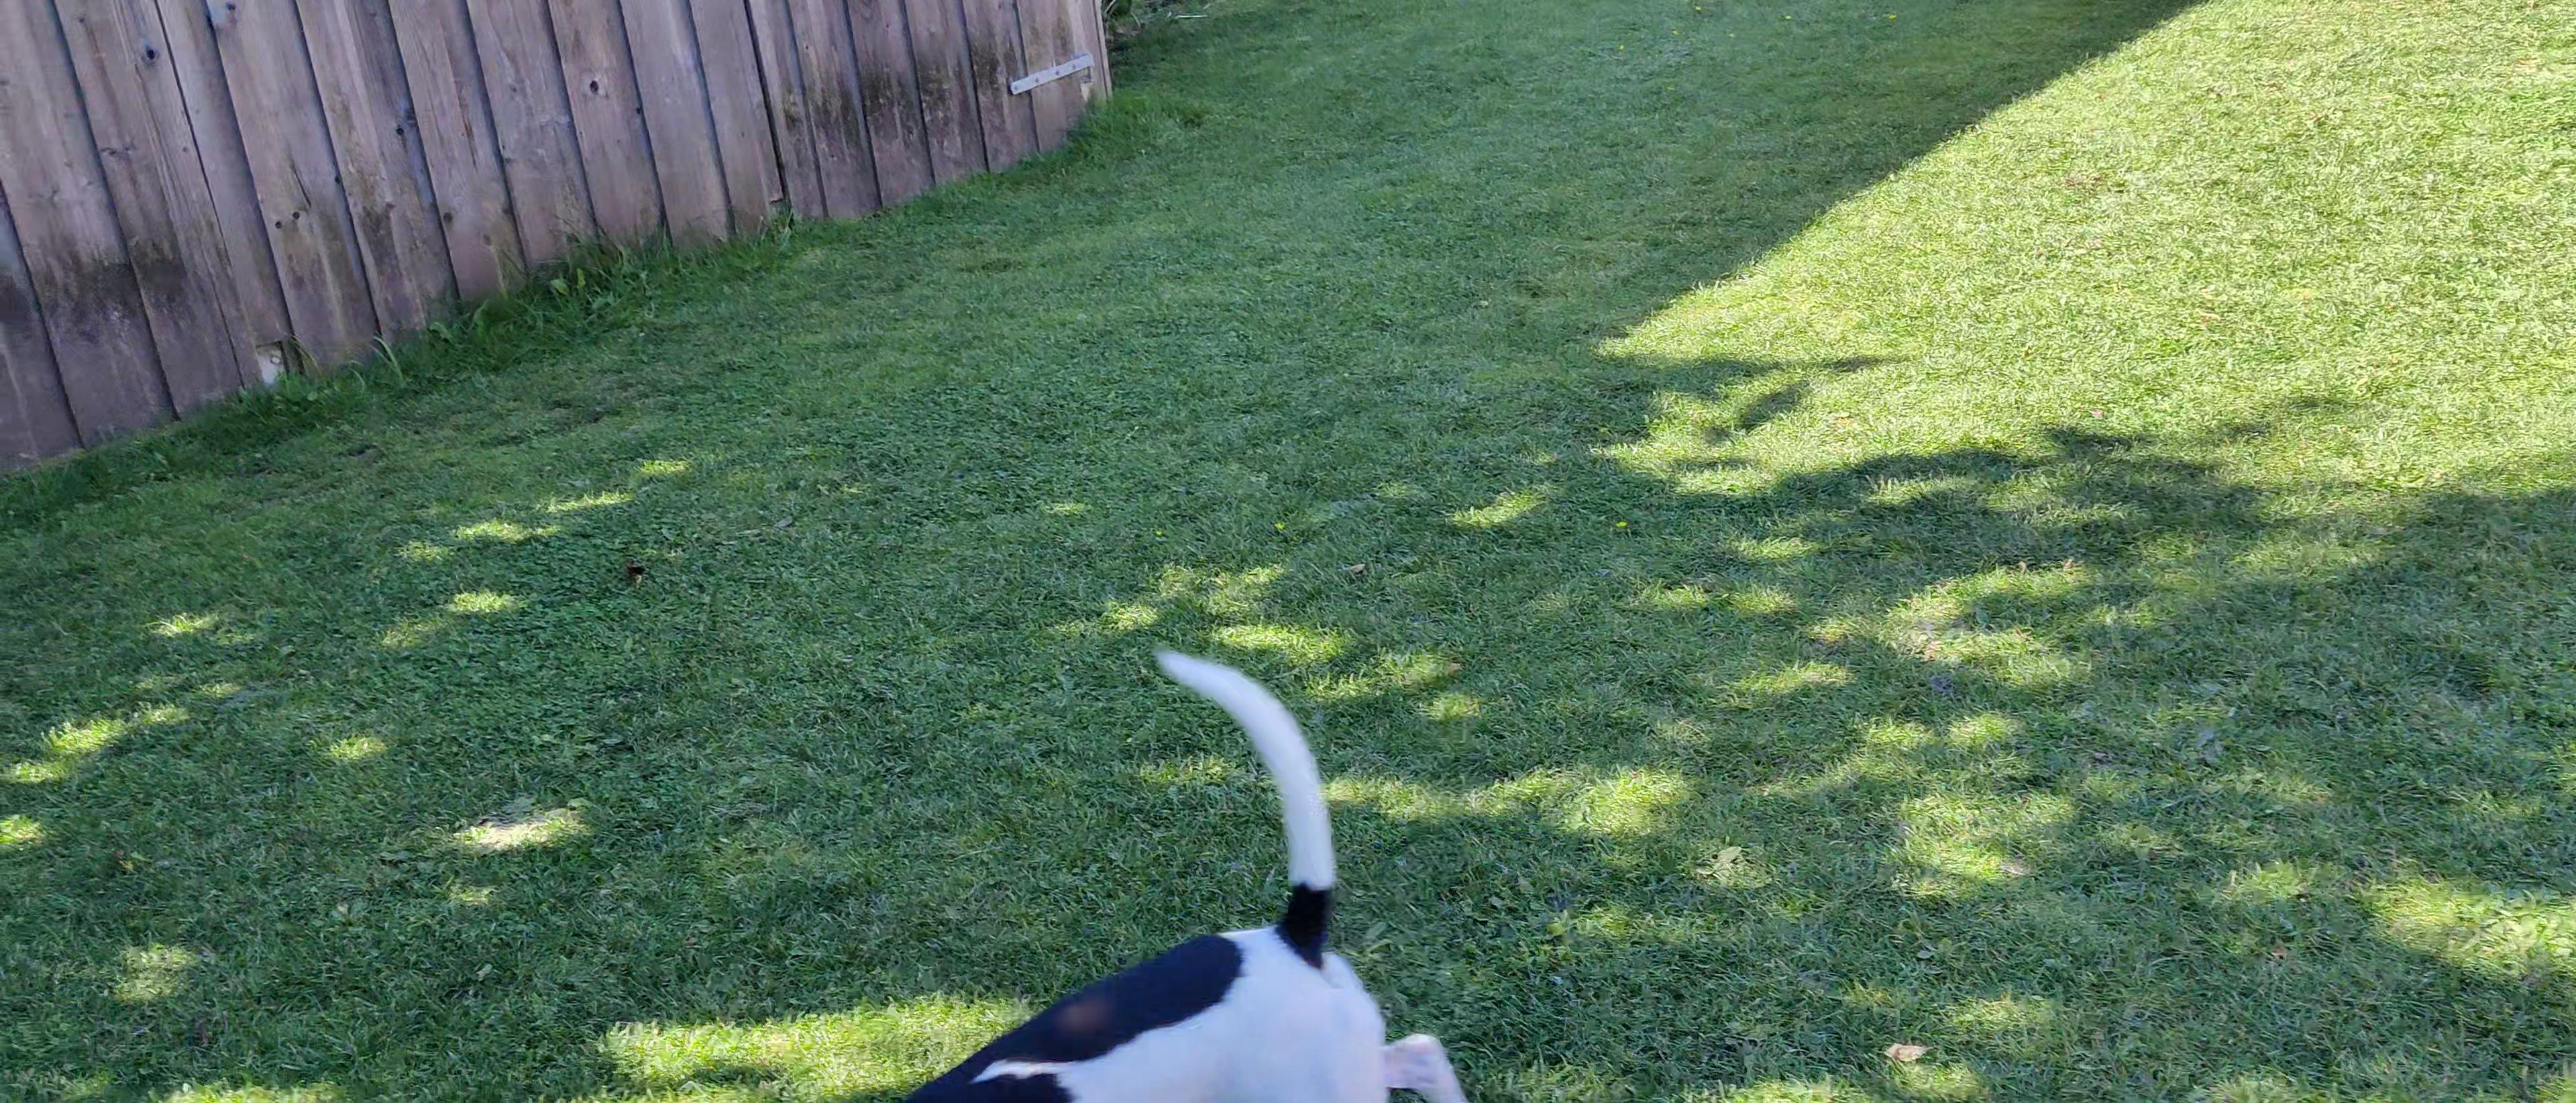Dog: (839, 633, 1498, 1103)
